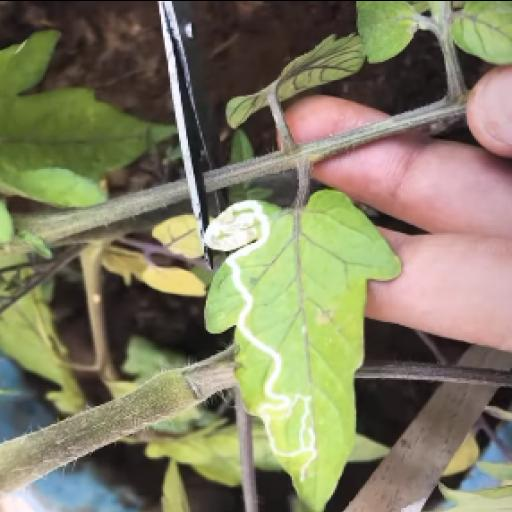Leaf Miner: (200, 190, 404, 512)
